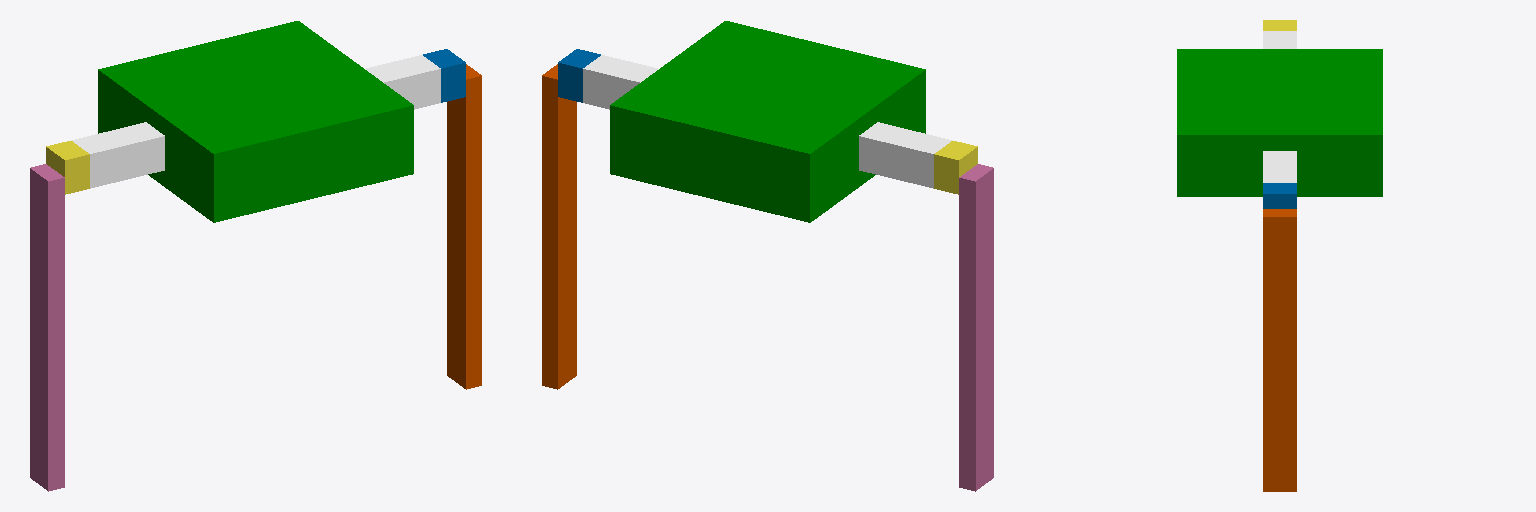
URDF robot description (dance_robot):
<?xml version="1.0"?>
<robot name="dance_robot">
    <material name="grey">
        <color rgba="0.7 0.7 0.7 1" />
    </material>

    <material name="green">
        <color rgba="0 0.6 0 1" />
    </material>

    <material name="white">
        <color rgba = "1 1 1 1" />
    </material>

    <link name="base_link">
        <visual>
            <geometry>
                <box size="0.6096 0.6096 0.2" />
            </geometry>
            <origin xyz="0 0 0.9" rpy="0 0 0" />
            <material name="green" />
        </visual>
        <collision>
            <origin xyz="0 0 0.9" rpy="0 0 0 " />
            <geometry>
                <box size="0.6096 0.6096 0.2" />"\
            </geometry>
        </collision>
    </link>

    <link name="left_hip_link">
        <visual>
            <geometry>
                <box size="0.2286 0.1 0.1" />
            </geometry>
            <origin xyz="0.1143 0 0" rpy="0 0 0" />
            <material name="white" />
        </visual>
        <collision>
            <origin xyz="0.1143 0 0" rpy="0 0 0 " />
            <geometry>
                <box size="0.2286 0.1 0.1" />
            </geometry>
        </collision>
    </link>

    <link name="right_hip_link">
        <visual>
            <geometry>
                <box size="0.2286 0.1 0.1" />
            </geometry>
            <origin xyz="-0.1143 0 0" rpy="0 0 0" />
            <material name="white" />
        </visual>
        <collision>
            <origin xyz="-0.1143 0 0" rpy="0 0 0" />
            <geometry>
                <box size="0.2286 0.1 0.1" />
            </geometry>
        </collision>
    </link>
    
    <link name="right_knee_short">
        <visual>
            <geometry>
                <box size="0.0762 0.1 0.1" />
            </geometry>
            <origin xyz="-0.0381 0 0" rpy="0 0 0" />
            <material name="blue" />
        </visual>
        <collision>
            <origin xyz="-0.0381 0 0" rpy="0 0 0" />
            <geometry>
                <box size="0.0762 0.1 0.1" />
            </geometry>
        </collision>
    </link>

    <link name="left_knee_short">
        <visual>
            <geometry>
                <box size="0.0762 0.1 0.1" />
            </geometry>
            <origin xyz="0.0381 0 0" rpy="0 0 0" />
            <material name="blue" />
        </visual>
        <collision>
            <origin xyz="0.0381 0 0" rpy="0 0 0" />
            <geometry>
                <box size="0.0762 0.1 0.1" />
            </geometry>
        </collision>
    </link>

    <link name="left_knee_long">
        <visual>
            <geometry>
                <box size="0.05 0.1 0.9" />
            </geometry>
            <origin xyz="0.1012 0 0" rpy="0 0 0" />
            <material name="blue" />
        </visual>
        <collision>
            <origin xyz="0.1012 0 0" rpy="0 0 0" />
            <geometry>
                <box size="0.05 0.1 0.9" />
            </geometry>
        </collision>
    </link>

    <link name="right_knee_long">
        <visual>
            <geometry>
                <box size="0.05 0.1 0.9" />
            </geometry>
            <origin xyz="-0.1012 0 0" rpy="0 0 0" />
            <material name="blue" />
        </visual>
        <collision>
            <origin xyz="-0.1012 0 0" rpy="0 0 0" />
            <geometry>
                <box size="0.05 0.1 0.9" />
            </geometry>
        </collision>
    </link>

    <joint name="left_hip_yaw" type="revolute">
        <parent link="base_link" />
        <child link="left_hip_link" />
        <origin xyz="0.3048 0 0.9" rpy="0 0 0" />
        <axis xyz="0 0 1" />
        <limit lower="-3.14" upper="3.14" effort="10" velocity="3.14" />
    </joint>

    <joint name="left_hip_pitch" type="revolute">
        <parent link="left_hip_link" />
        <child link="left_knee_short" />
        <origin xyz="0.2286 0 0" rpy="1.5708 0 0" />
        <axis xyz="0 0 1" />
        <limit lower="-3.14" upper="3.14" effort="10" velocity="3.14" />
    </joint>

    <joint name="right_hip_pitch" type="revolute">
        <parent link="right_hip_link" />
        <child link="right_knee_short" />
        <origin xyz="-0.2286 0 0" rpy="1.5708 0 0" />
        <axis xyz="0 0 1" />
        <limit lower="-3.14" upper="3.14" effort="10" velocity="3.14" />
    </joint>

    <joint name="right_hip_yaw" type="revolute">
        <parent link="base_link" />
        <child link="right_hip_link" />
        <origin xyz="-0.3048 0 0.9" rpy="0 0 0" />
        <axis xyz="0 0 1" />
        <limit lower="-3.14" upper="3.14" effort="10" velocity="3.14" />
    </joint>

    <joint name="fixed_right_knee" type="fixed">
        <parent link="right_knee_short" />
        <child link="right_knee_long" />
        <origin xyz="0 -0.45 0" rpy="-1.5708 0 0" />
    </joint>

    <joint name="fixed_left_knee" type="fixed">
        <parent link="left_knee_short" />
        <child link="left_knee_long" />
        <origin xyz="0 -0.45 0" rpy="-1.5708 0 0" />
    </joint>
</robot>

--- Render facts (derived) ---
Views: 3 orthographic renders of the robot side by side, from view 1: azimuth 30°, elevation 25°; view 2: azimuth 150°, elevation 25°; view 3: azimuth 270°, elevation 25°.
Robot: dance_robot — 7 links, 6 joints (4 revolute, 2 fixed); root link base_link; default pose: all joints at 0.
Links seen in each view (by area): view 1: base_link, right_knee_long, left_knee_long, right_hip_link, left_hip_link, right_knee_short, left_knee_short; view 2: base_link, right_knee_long, left_knee_long, right_hip_link, left_hip_link, right_knee_short, left_knee_short; view 3: base_link, left_knee_long, left_hip_link, left_knee_short, right_hip_link.
Boxes of the visible links, left/top/right/bottom form: base_link: left=98, top=21, right=413, bottom=222; right_knee_long: left=30, top=164, right=64, bottom=491; left_knee_long: left=447, top=64, right=481, bottom=389; right_hip_link: left=71, top=122, right=164, bottom=188; left_hip_link: left=365, top=55, right=440, bottom=109; right_knee_short: left=46, top=141, right=89, bottom=194; left_knee_short: left=423, top=49, right=465, bottom=102; base_link: left=610, top=21, right=925, bottom=222; right_knee_long: left=959, top=164, right=993, bottom=491; left_knee_long: left=542, top=64, right=576, bottom=389; right_hip_link: left=859, top=122, right=952, bottom=188; left_hip_link: left=583, top=55, right=658, bottom=109; right_knee_short: left=934, top=141, right=977, bottom=194; left_knee_short: left=558, top=49, right=600, bottom=102; base_link: left=1177, top=49, right=1382, bottom=196; left_knee_long: left=1263, top=209, right=1296, bottom=491; left_hip_link: left=1263, top=151, right=1296, bottom=182; left_knee_short: left=1263, top=183, right=1296, bottom=208; right_hip_link: left=1263, top=31, right=1296, bottom=48.
Bounding box of the posed robot: 1.32 × 0.6096 × 1 m (x, y, z).
Geometry: primitives only (box / cylinder / sphere), no mesh files.